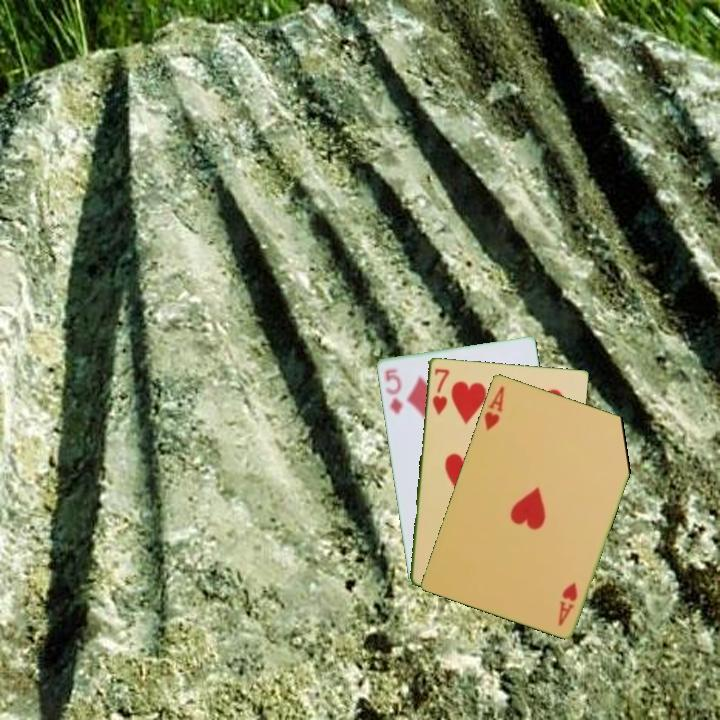5d: (381, 365, 406, 417)
7h: (428, 365, 452, 418)
Ah: (480, 382, 507, 433), (554, 578, 580, 628)
